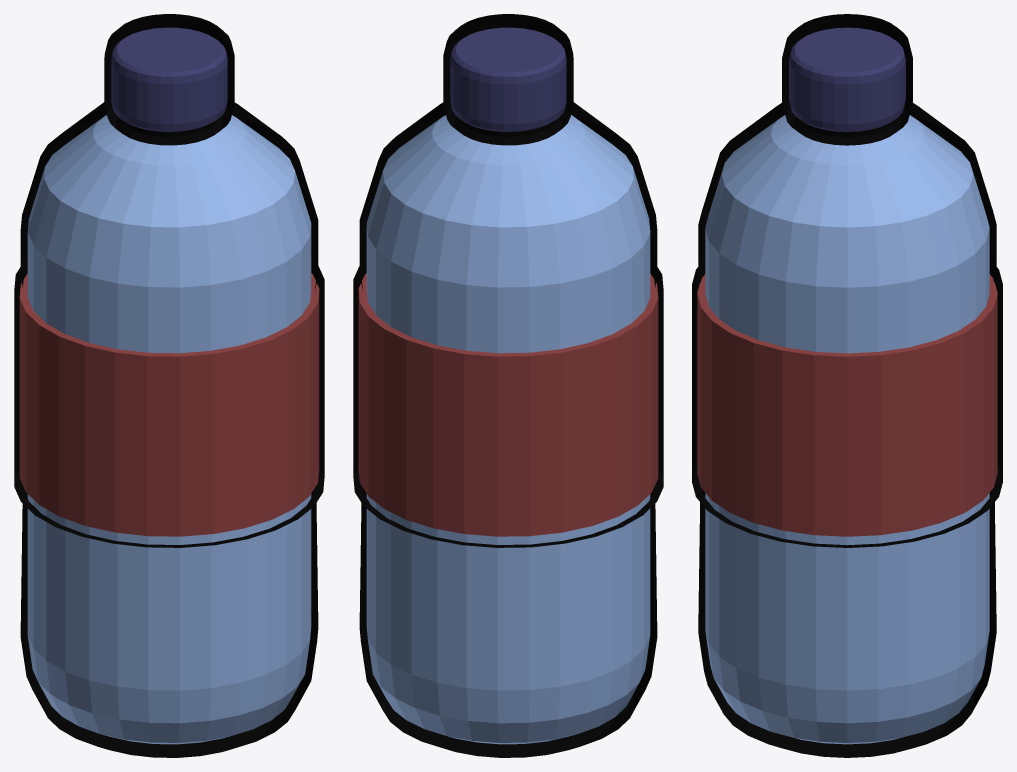
File: WaterBottle1.fbx
3 views of the same model, side by side, from view 1: azimuth 30°, elevation 25°; view 2: azimuth 150°, elevation 25°; view 3: azimuth 270°, elevation 25° (orthographic).
Parts seen in each view (by area): view 1: Cylinder; view 2: Cylinder; view 3: Cylinder.
Boxes of the visible parts, bbox=[...] form: Cylinder: bbox=[14, 14, 324, 757]; Cylinder: bbox=[353, 14, 663, 757]; Cylinder: bbox=[692, 14, 1002, 757].
Size of the model in its own units: 83.92 by 201 by 83.92.
